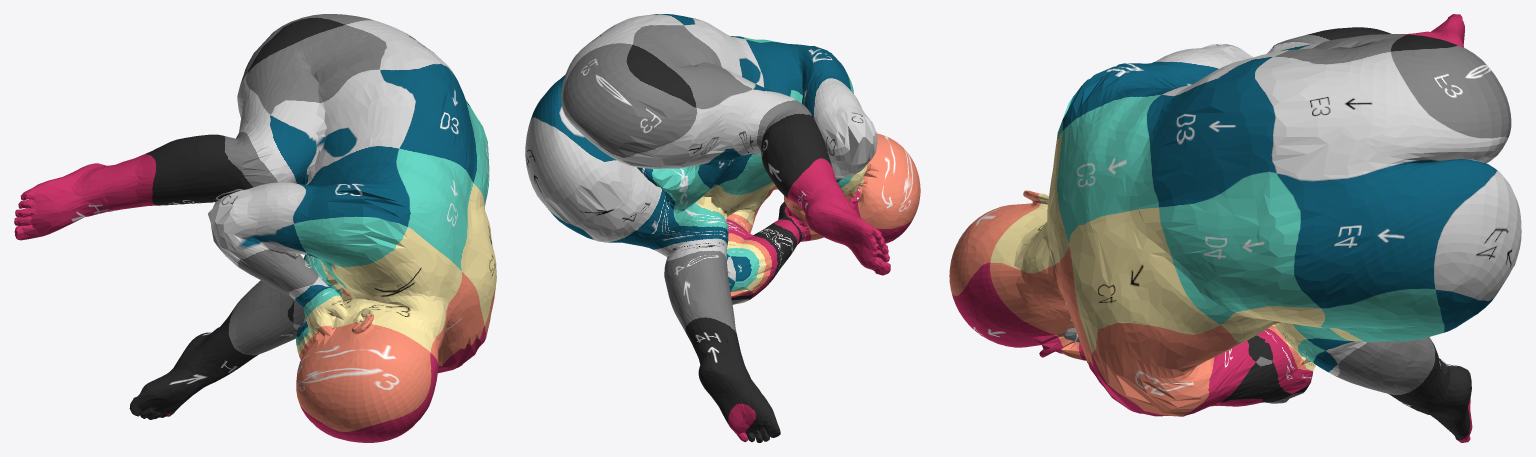
File: kid00-kid20.obj
3 renders of one model, left to right at view 1: azimuth 30°, elevation 25°; view 2: azimuth 150°, elevation 25°; view 3: azimuth 270°, elevation 25°, orthographic. The views are drawn at different scales.
Parts seen in each view (by area): view 1: kid00-kid20_export; view 2: kid00-kid20_export; view 3: kid00-kid20_export.
Boxes of the visible parts, bbox=[...] form: kid00-kid20_export: bbox=[14, 14, 496, 442]; kid00-kid20_export: bbox=[525, 14, 920, 442]; kid00-kid20_export: bbox=[949, 14, 1521, 442].
Bounding box in the file's own units: 0.6597 × 0.5769 × 0.6151.
Materials: 1 (1 with a texture image).
